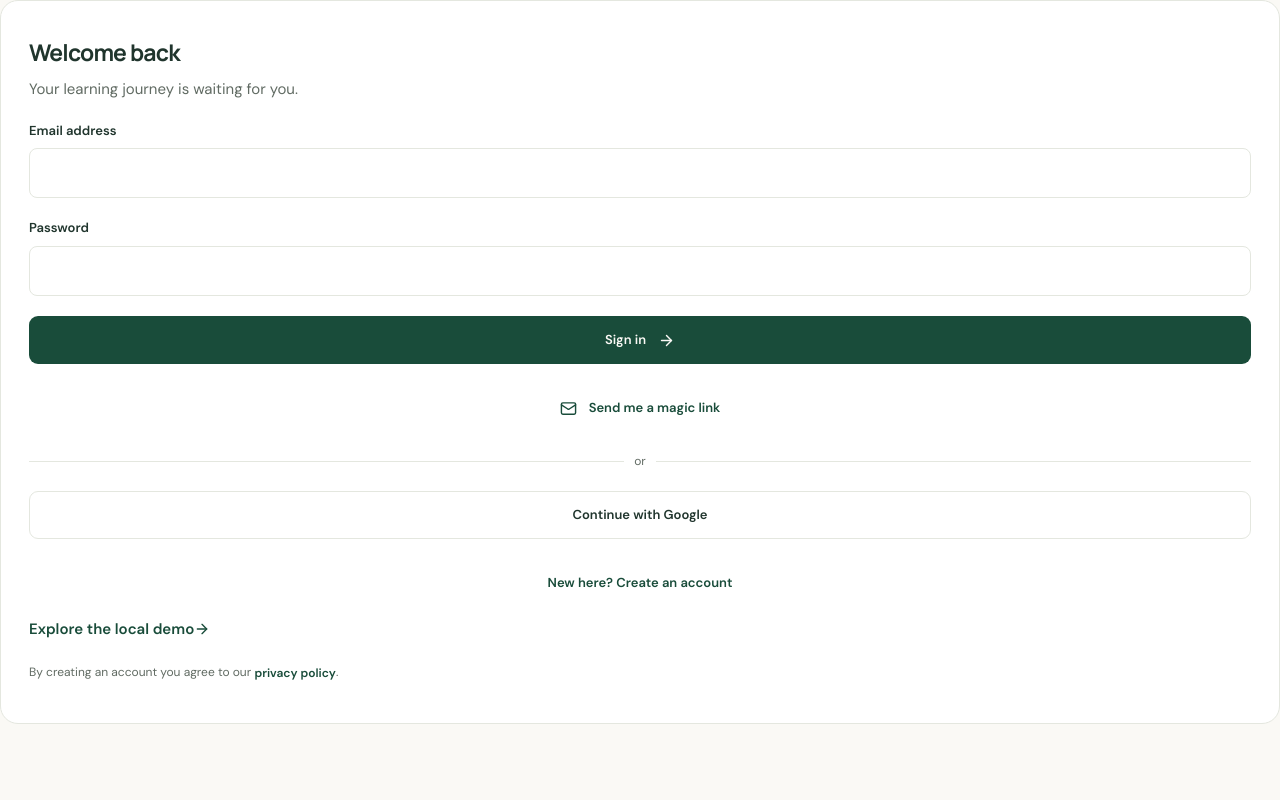
Test case: reports provider errors and connection failures during sign-in
The width and height of the screenshot is (1280, 800).
Type "learner@example.com" into the field labelled "Email address" at (640, 173), box [29,148,1251,198]
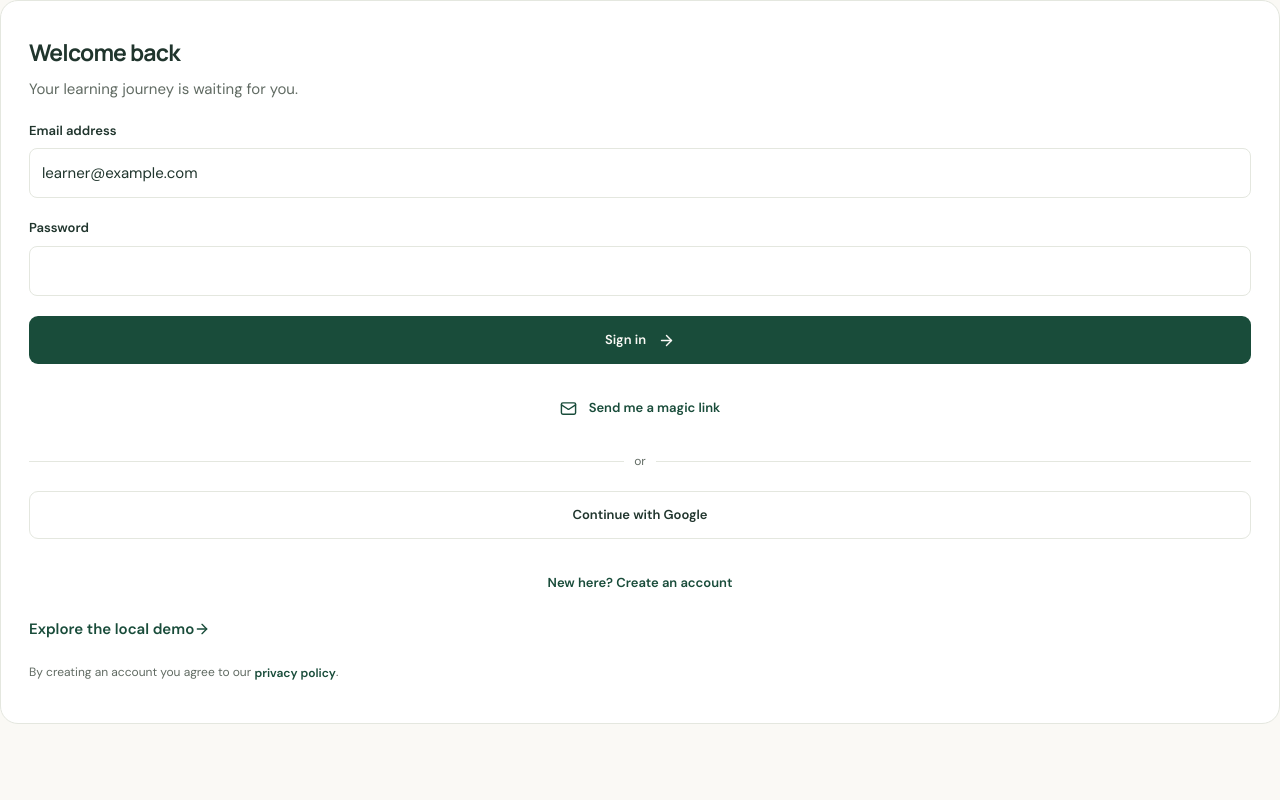
Type "safe-password" into the password field labelled "Password" at (640, 271), box [29,246,1251,296]
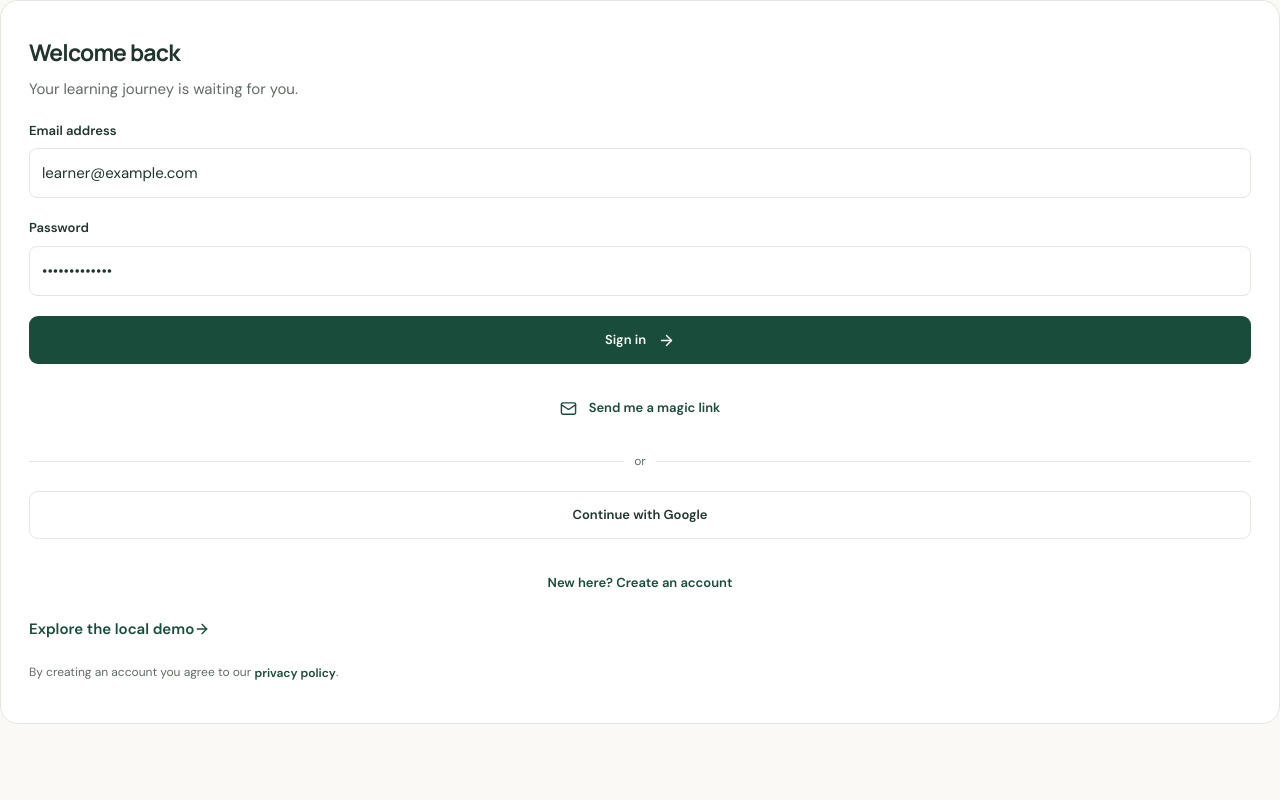
Click the button "Sign in" at (640, 340), box [29,316,1251,364]
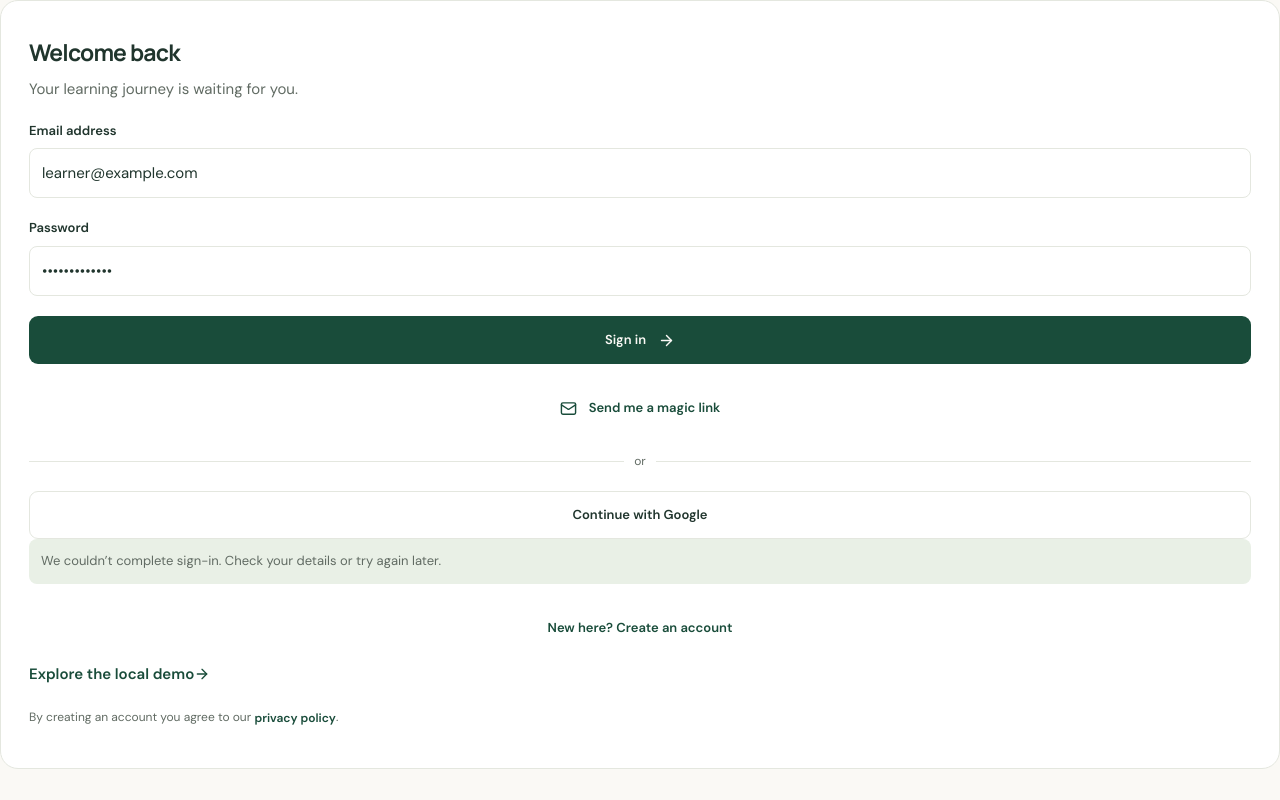
expect the message shows "We couldn’t complete sign-in": met, box [41,552,441,569]
Click the button "Sign in" at (640, 340), box [29,316,1251,364]
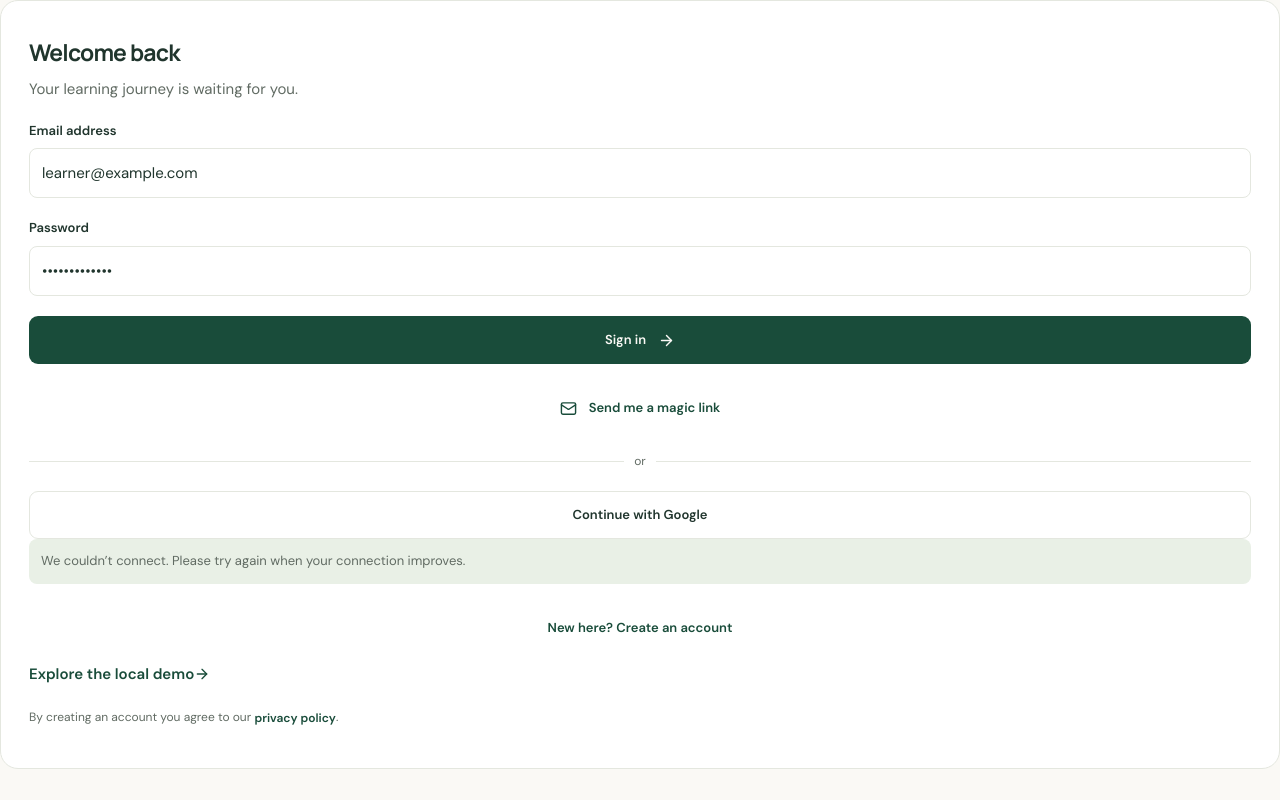
expect the message shows "We couldn’t connect": met, box [41,552,465,569]
